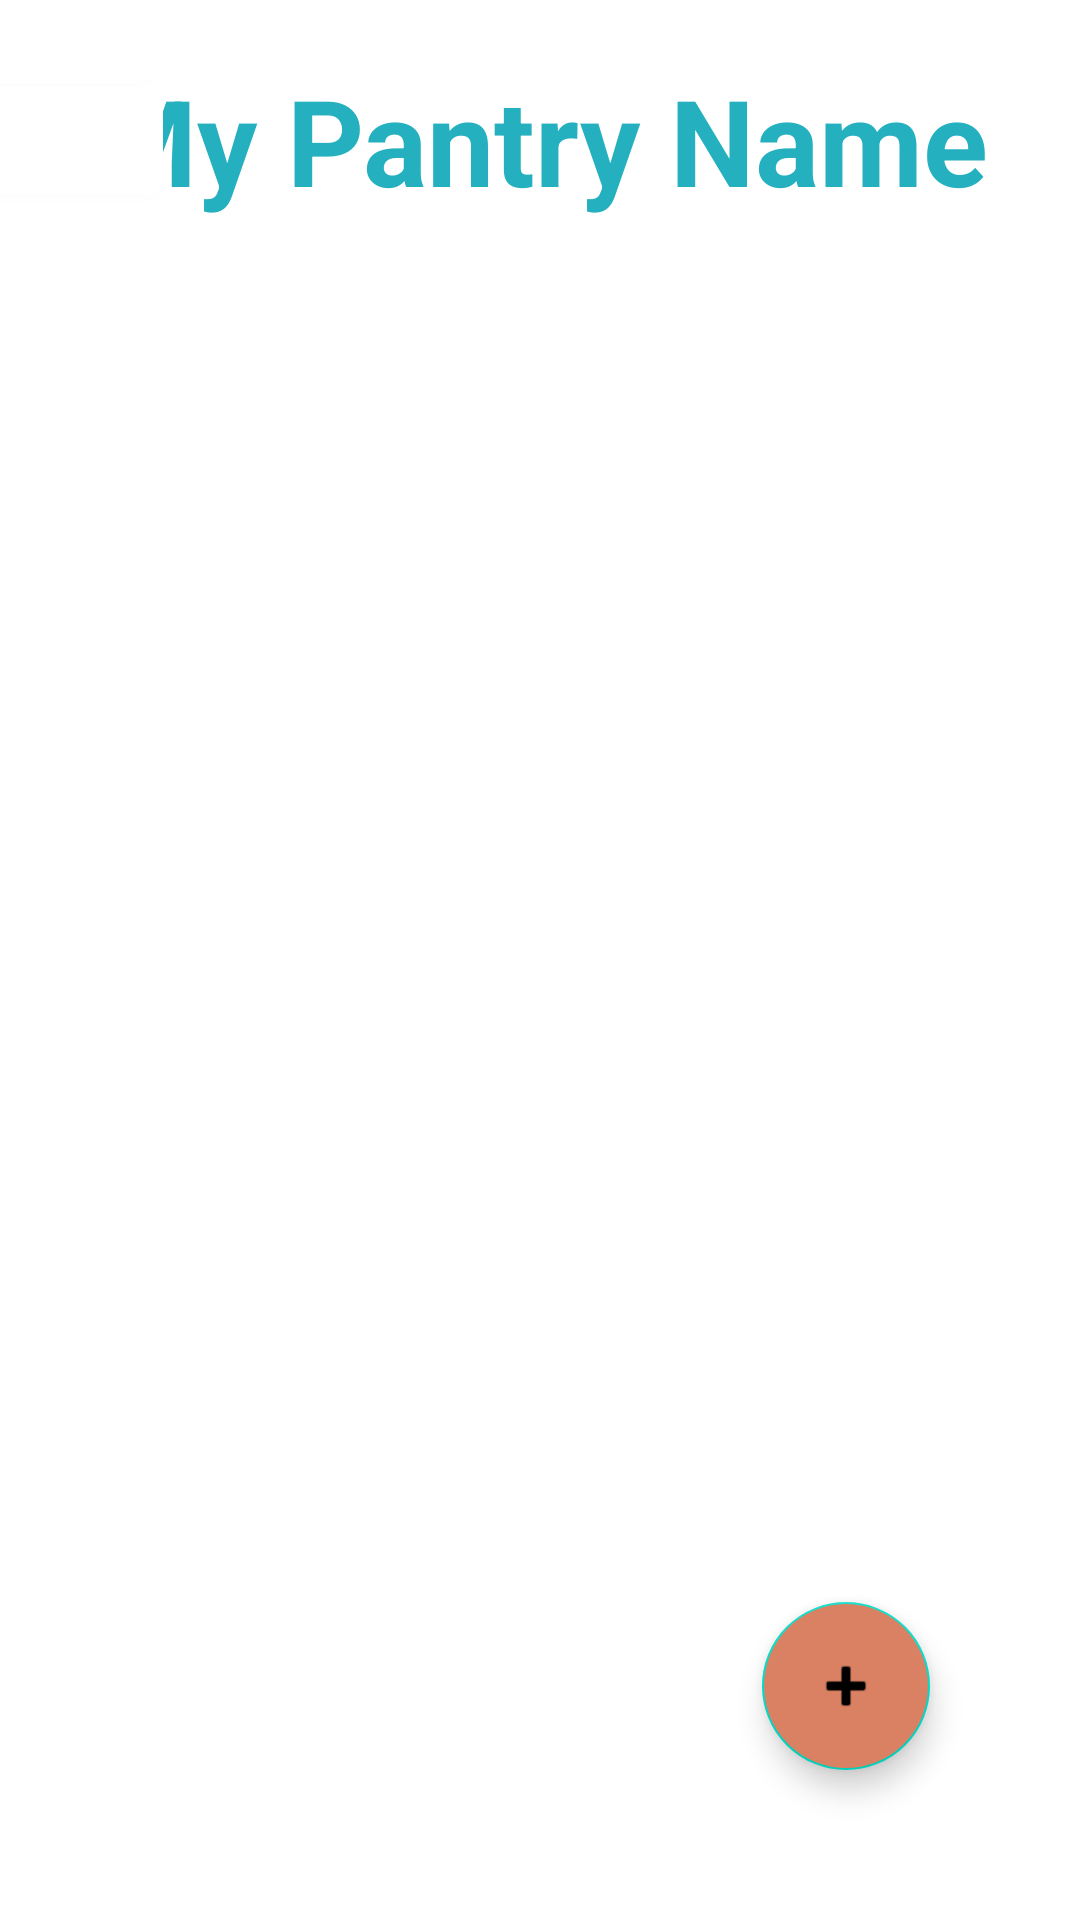

Named icons in this screenshot (1080x1920) and their centers, point (x, y):
add: point (846, 1686)
